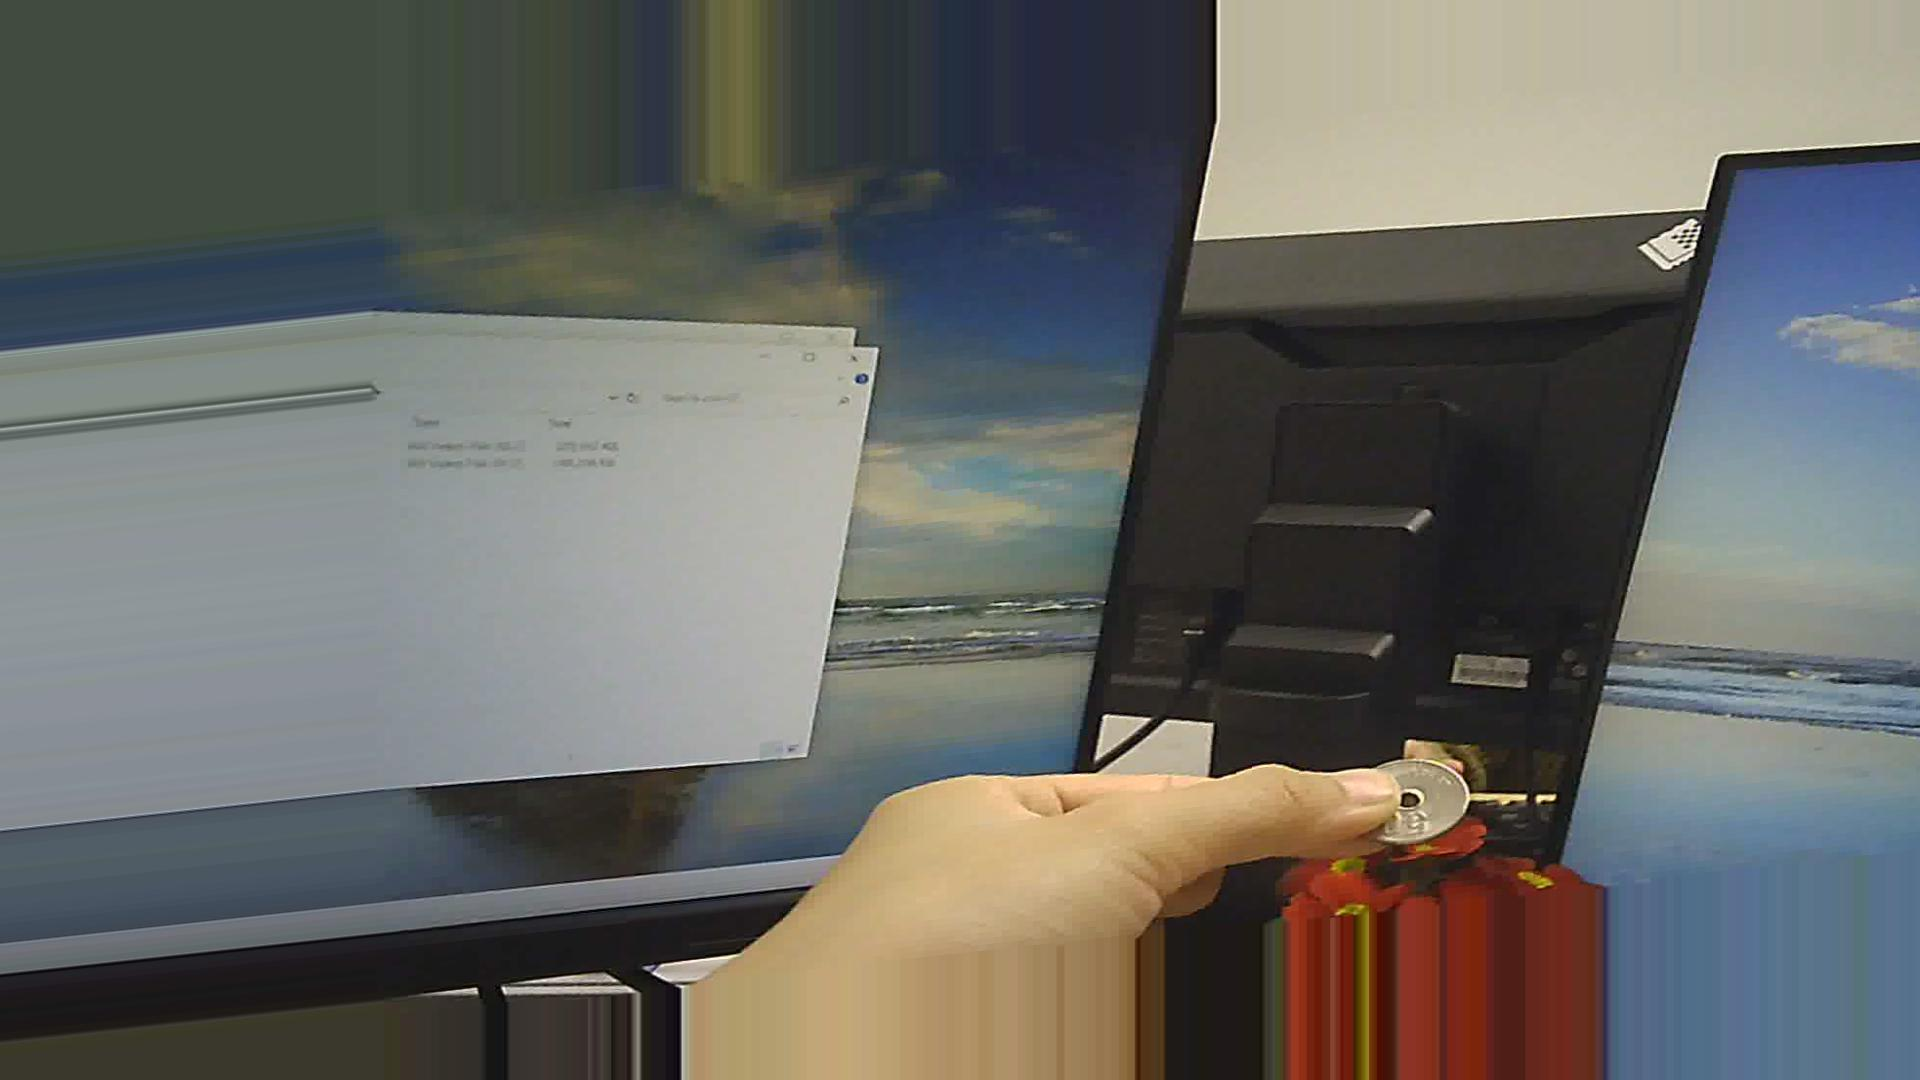50 Yen: (1362, 754, 1491, 839)
